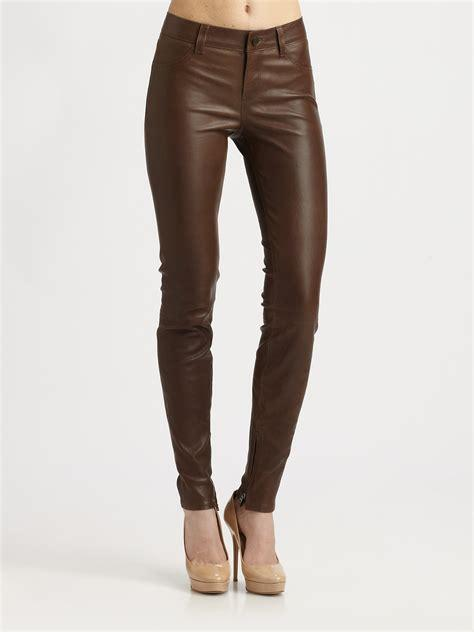pants: (145, 11, 330, 513)
